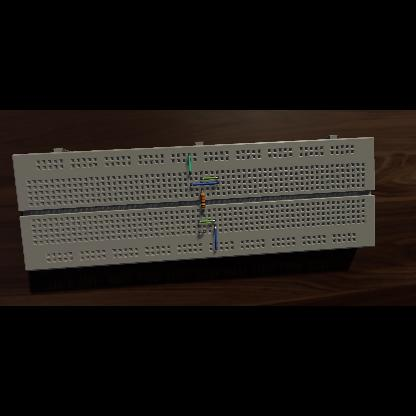breadboard: (13, 135, 376, 271)
resistor: (200, 194, 206, 209)
wire: (190, 182, 218, 186), (214, 226, 218, 250), (188, 155, 192, 175), (198, 220, 216, 224), (202, 178, 218, 180), (199, 231, 205, 233), (202, 191, 202, 194)
